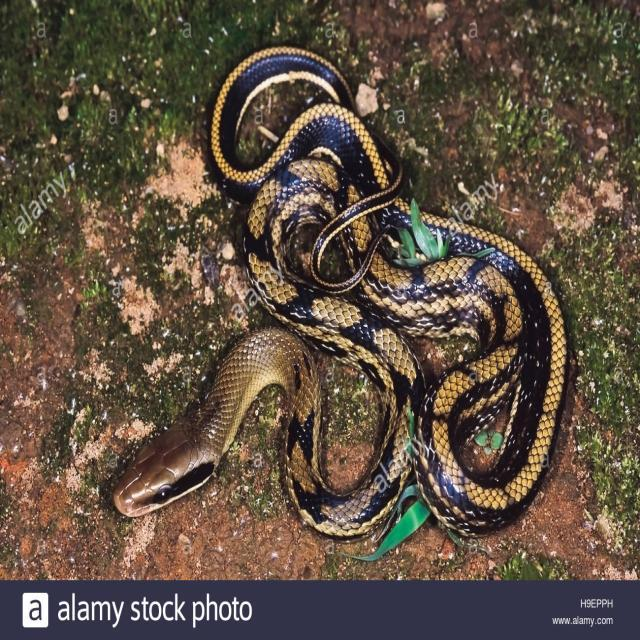Snake: (111, 43, 568, 554)
